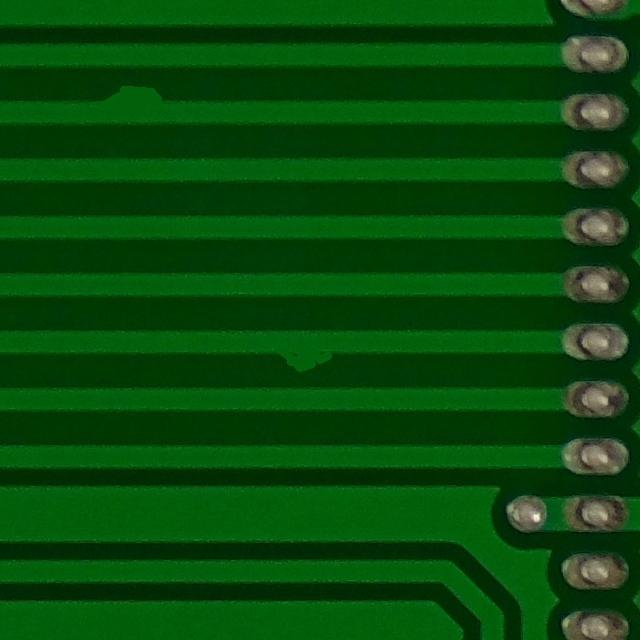spur: (77, 66, 187, 138), (251, 316, 355, 384)
